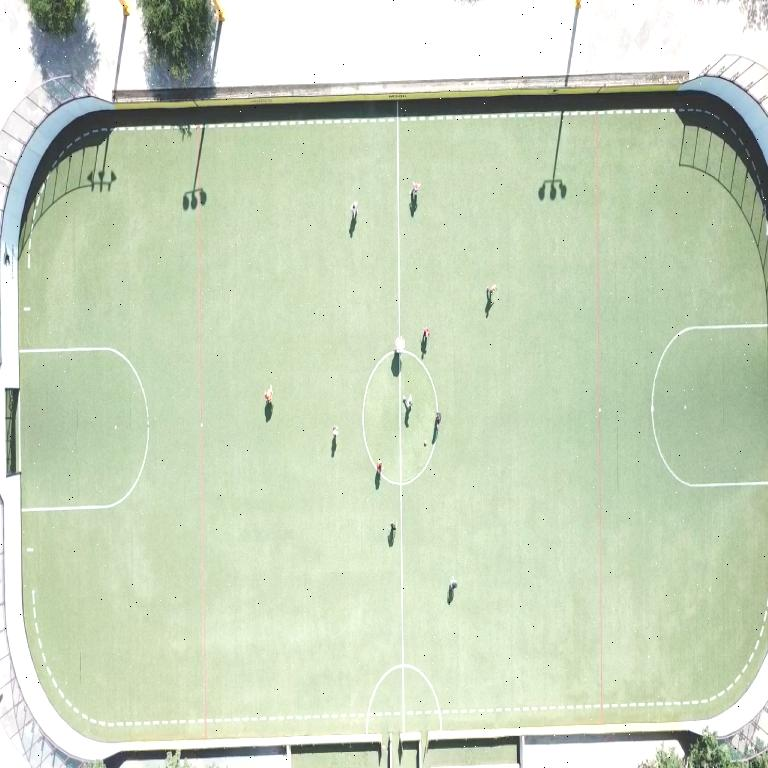AC: (19, 347, 148, 511), (651, 324, 767, 488)
B: (424, 439, 427, 446)
MC: (397, 359, 404, 731)
P: (410, 182, 419, 200), (396, 337, 405, 354), (350, 201, 357, 219), (486, 284, 495, 298), (448, 576, 456, 591), (403, 395, 411, 410), (264, 386, 270, 405), (434, 412, 440, 429), (422, 327, 429, 341), (389, 521, 396, 533), (331, 426, 337, 439), (376, 461, 381, 476)
